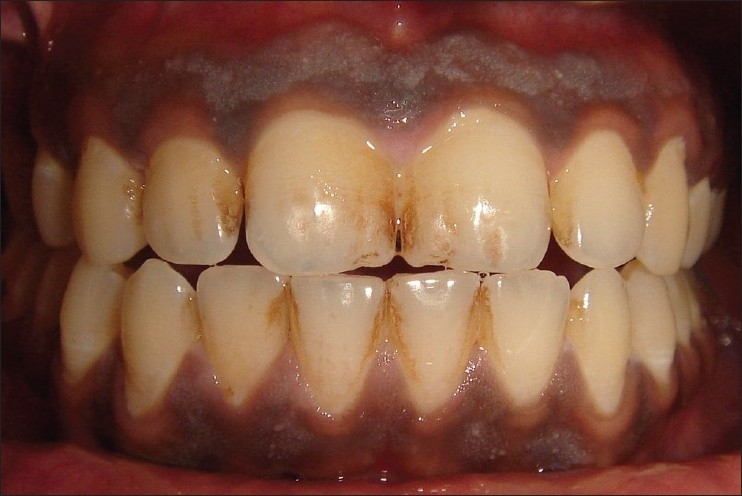LLCI_decay: (388, 271, 482, 416)
LLC_healthy: (568, 266, 634, 418)
LLLI_decay: (477, 271, 568, 409)
LR1BC_healthy: (57, 261, 124, 386)
LRCI_decay: (292, 273, 383, 429)
LRC_decay: (120, 258, 194, 415)
LRLI_decay: (195, 269, 293, 412)
ULCI_decay: (399, 104, 549, 276)
ULC_healthy: (643, 134, 694, 276)
ULLI_healthy: (549, 125, 644, 271)
UR1BC_healthy: (28, 149, 73, 252)
URCI_decay: (244, 108, 404, 275)
URC_decay: (71, 131, 142, 267)
URLI_decay: (141, 132, 239, 268)
